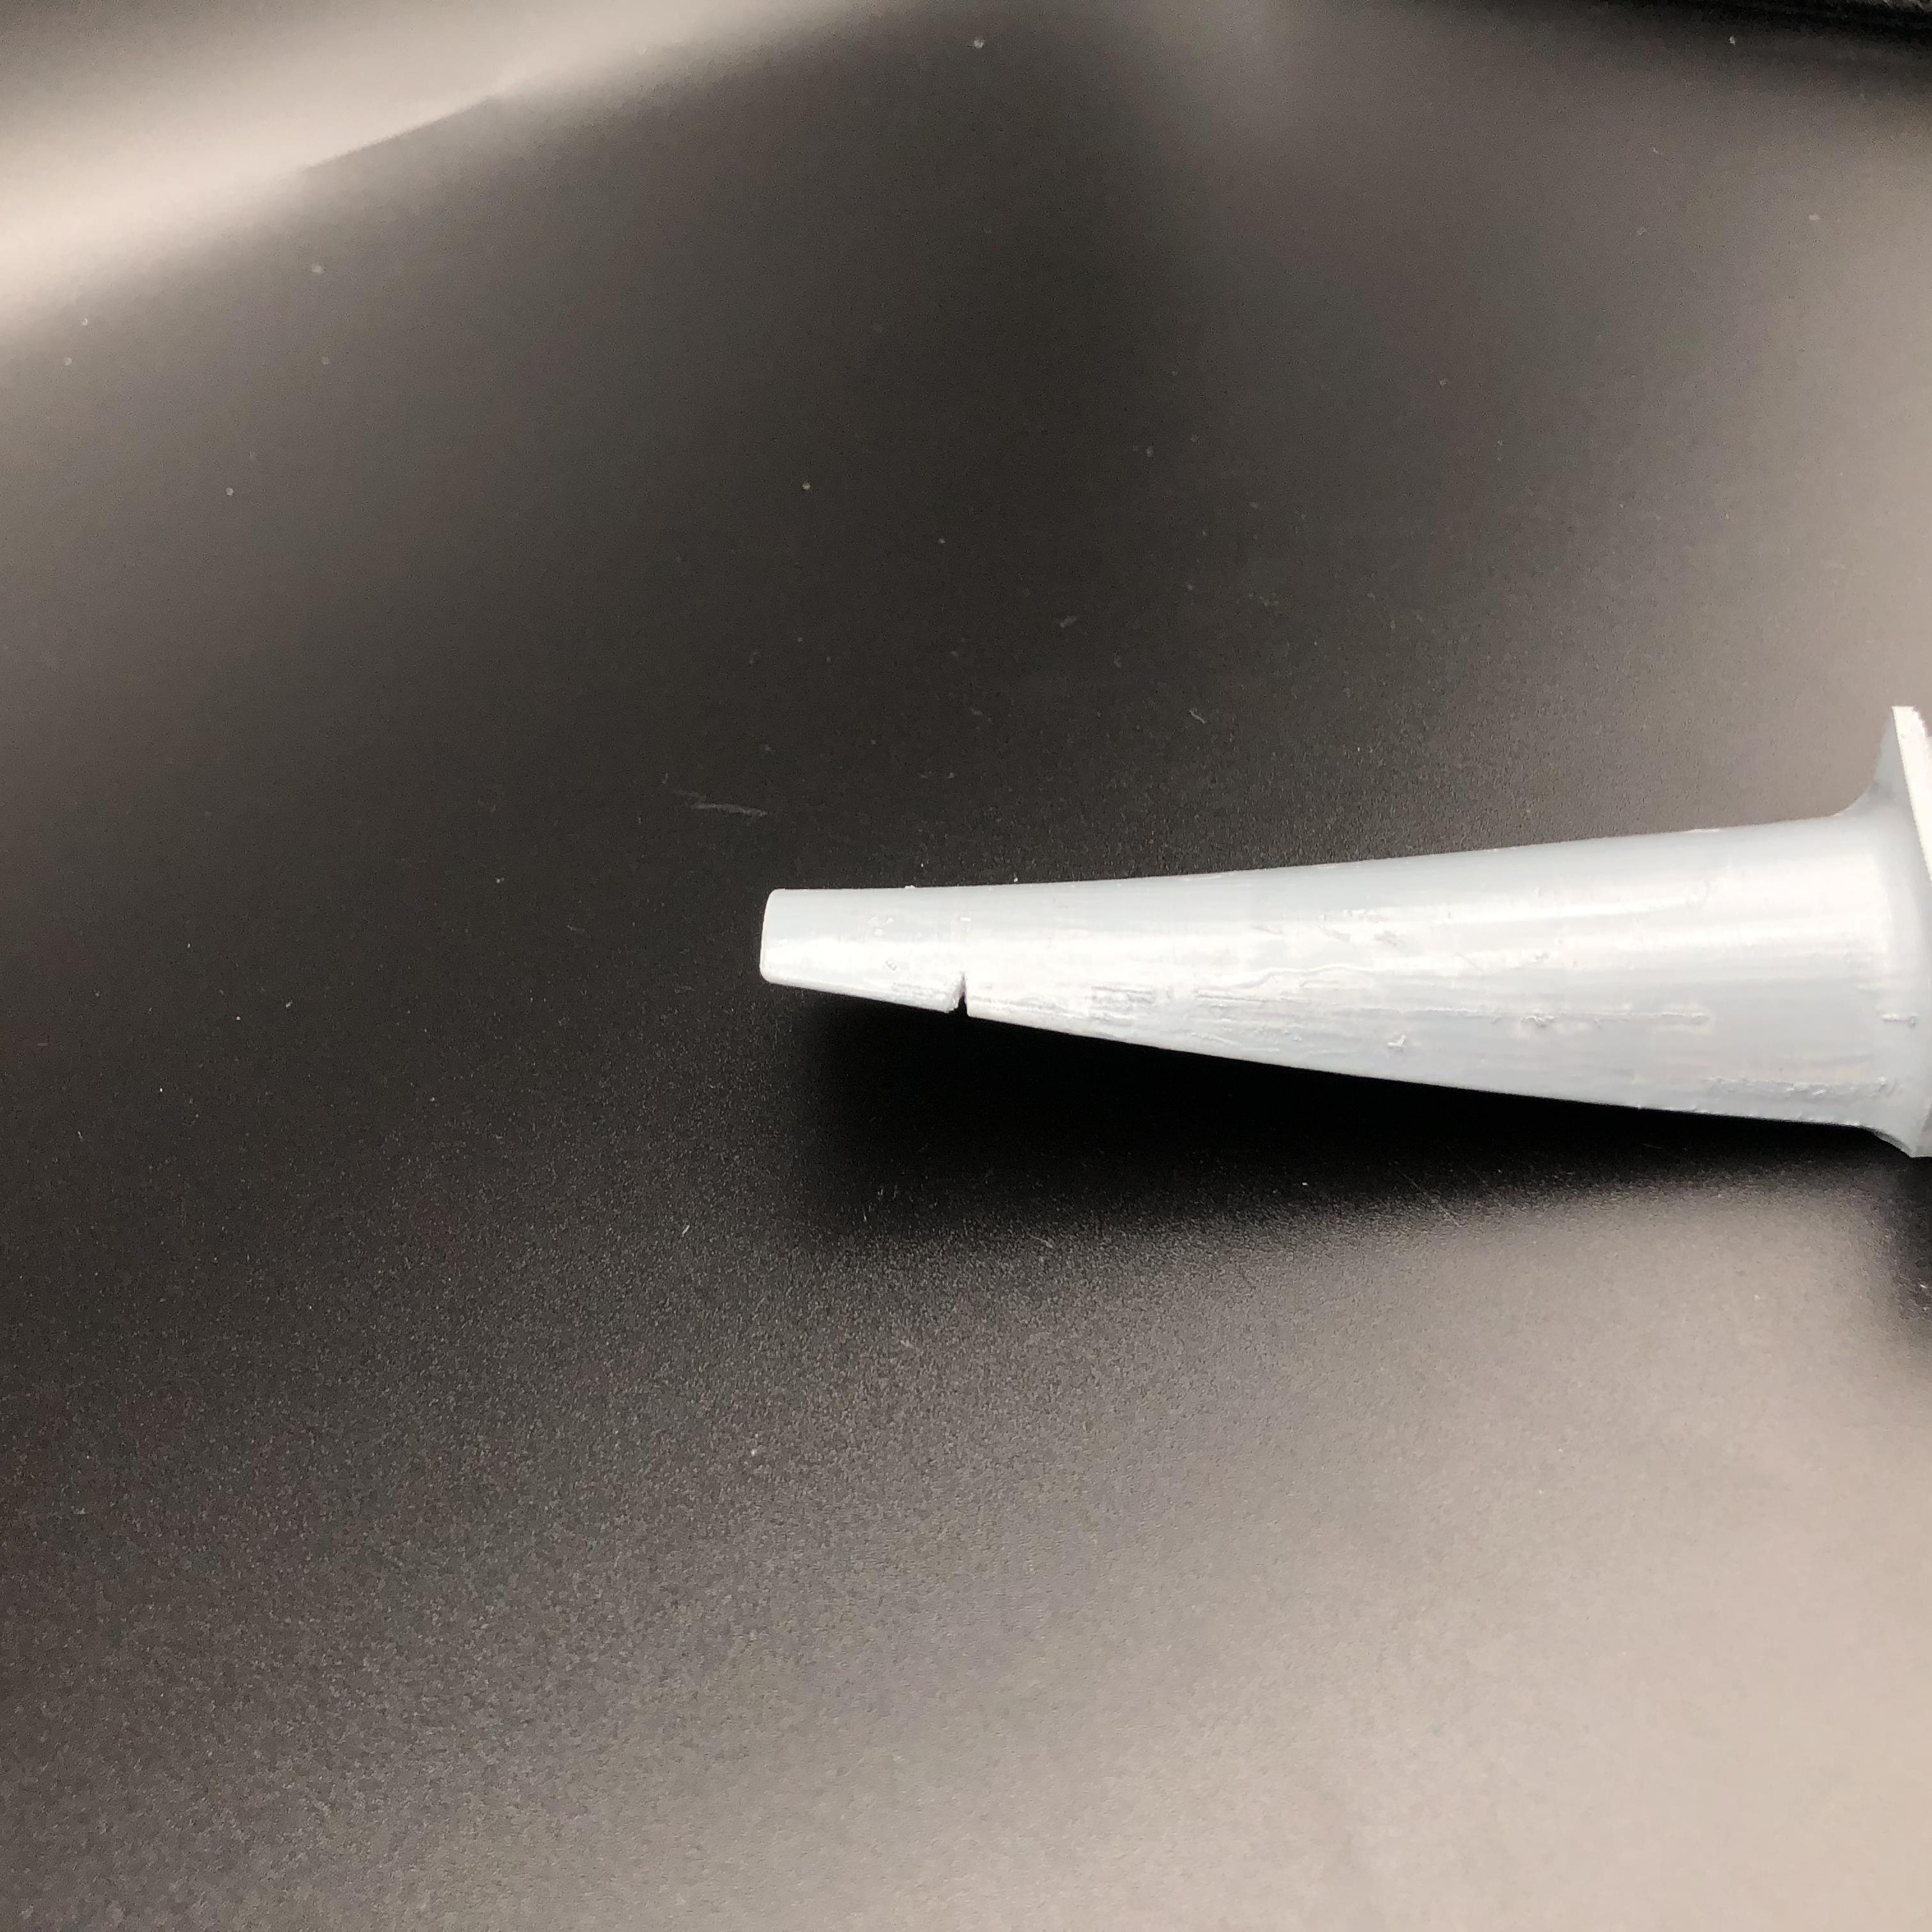groove: (943, 973, 993, 1023)
